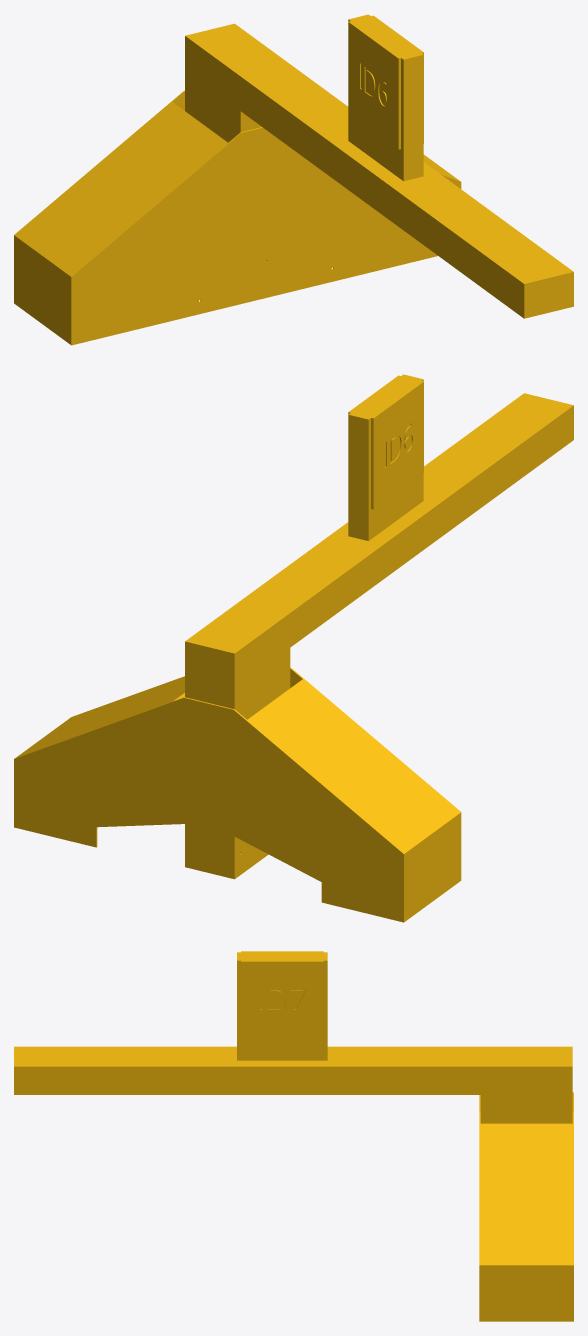
Rendered from BLOCK CAD FIELD - BLOCK CAD- TRENCH, FIXED, RED.gltf.
3 views of the same model, one above another, from view 1: azimuth 30°, elevation 25°; view 2: azimuth 150°, elevation 25°; view 3: azimuth 270°, elevation 25° (orthographic). The views are drawn at different scales.
Visible parts, largest first — view 1: BLOCK CAD: TRENCH, FIXED, RED; view 2: BLOCK CAD: TRENCH, FIXED, RED; view 3: BLOCK CAD: TRENCH, FIXED, RED.
Boxes of the visible parts, x1,y1,x2,y2 form: BLOCK CAD: TRENCH, FIXED, RED: (14, 14, 573, 345); BLOCK CAD: TRENCH, FIXED, RED: (14, 374, 573, 922); BLOCK CAD: TRENCH, FIXED, RED: (14, 951, 573, 1321).
Size of the model in its own units: 1.19 by 1.02 by 1.8.
